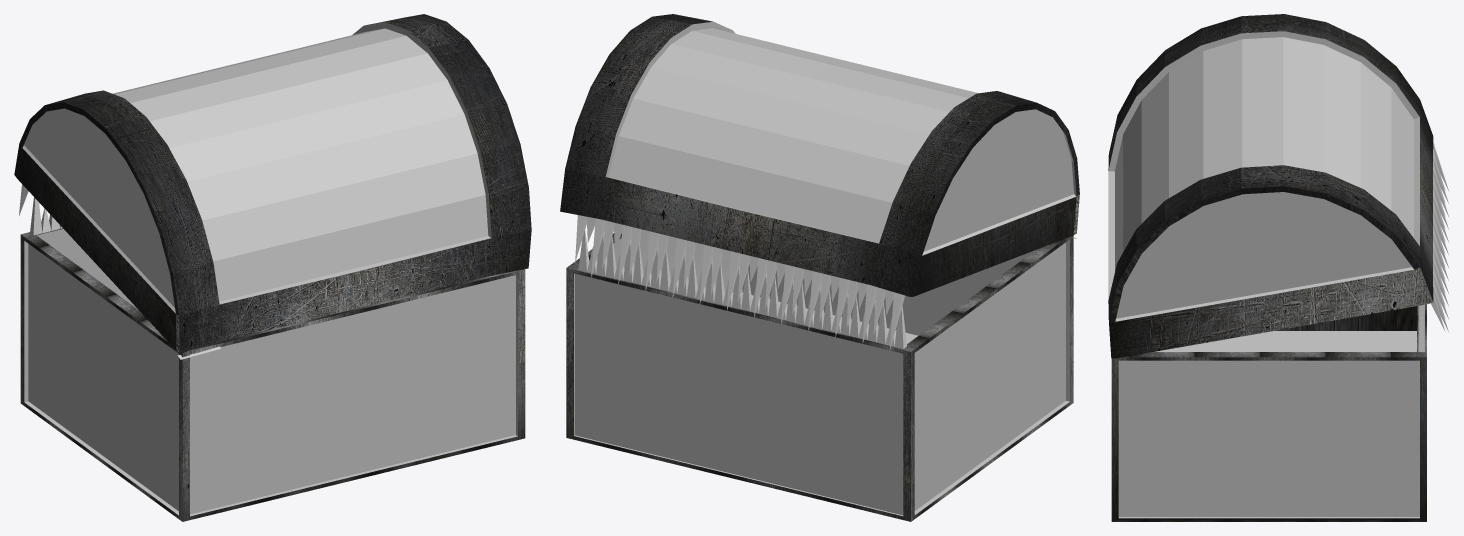
The model's file is ChestMonster.fbx.
The picture shows the model from 3 angles, left to right: view 1: azimuth 30°, elevation 25°; view 2: azimuth 150°, elevation 25°; view 3: azimuth 270°, elevation 25°; orthographic projection. The views are drawn at different scales.
Visible parts, largest first — view 1: Cube.002, Cube.001; view 2: Cube.002, Cube.001; view 3: Cube.002, Cube.001.
Boxes of the visible parts, bbox=[...] form: Cube.002: bbox=[14, 14, 531, 353]; Cube.001: bbox=[20, 197, 525, 521]; Cube.002: bbox=[560, 14, 1079, 350]; Cube.001: bbox=[566, 230, 1076, 521]; Cube.002: bbox=[1108, 14, 1448, 358]; Cube.001: bbox=[1111, 304, 1426, 521].
Bounding box in the file's own units: 259 × 240 × 216.
